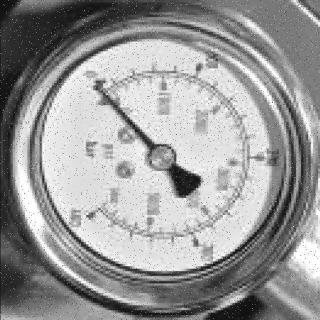gauge: (0, 0, 320, 320), (62, 182, 122, 233), (84, 67, 112, 102), (145, 144, 177, 172), (90, 80, 108, 98)
